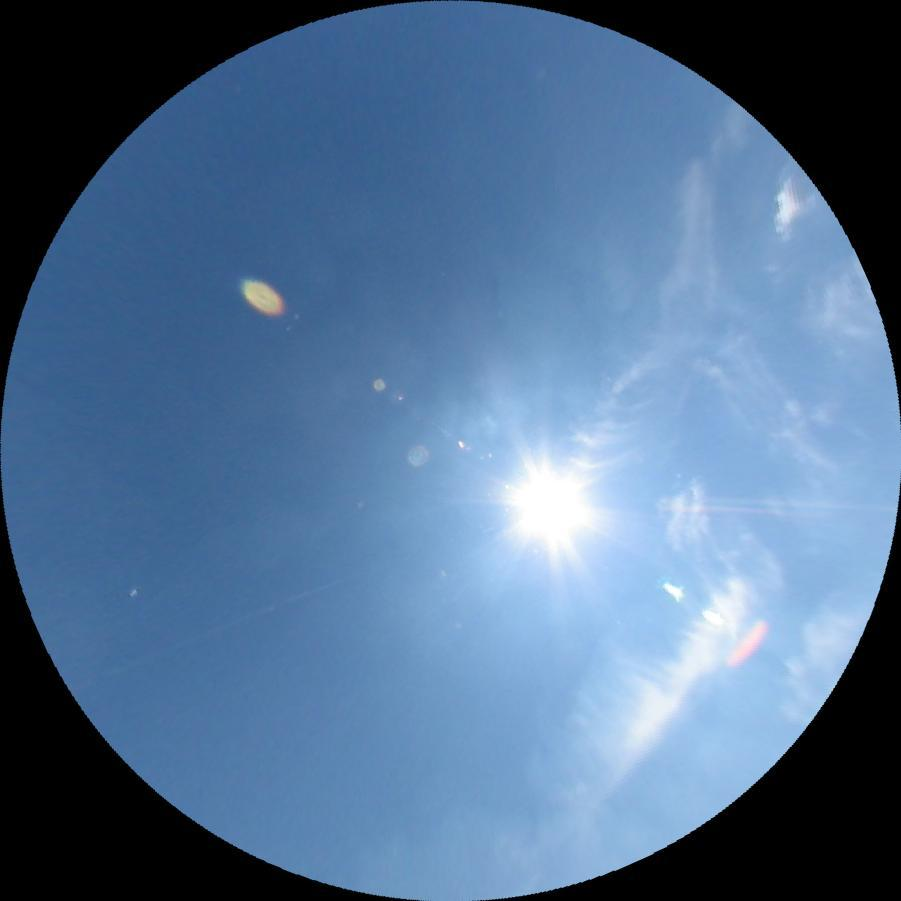contrail veryold: (547, 95, 808, 514)
parasite: (67, 570, 347, 696), (707, 497, 896, 510), (664, 502, 794, 516)
sun: (513, 470, 585, 540)
